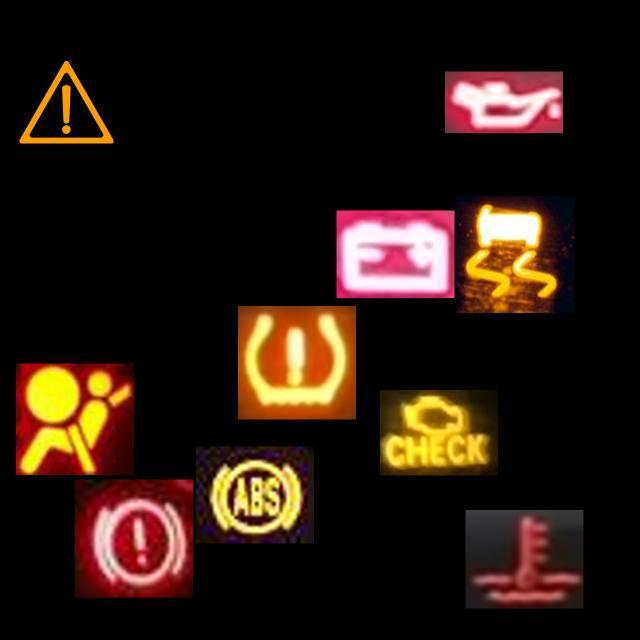Central Warning lamp: (8, 44, 126, 162)
Engine cooling system: (466, 509, 584, 608)
